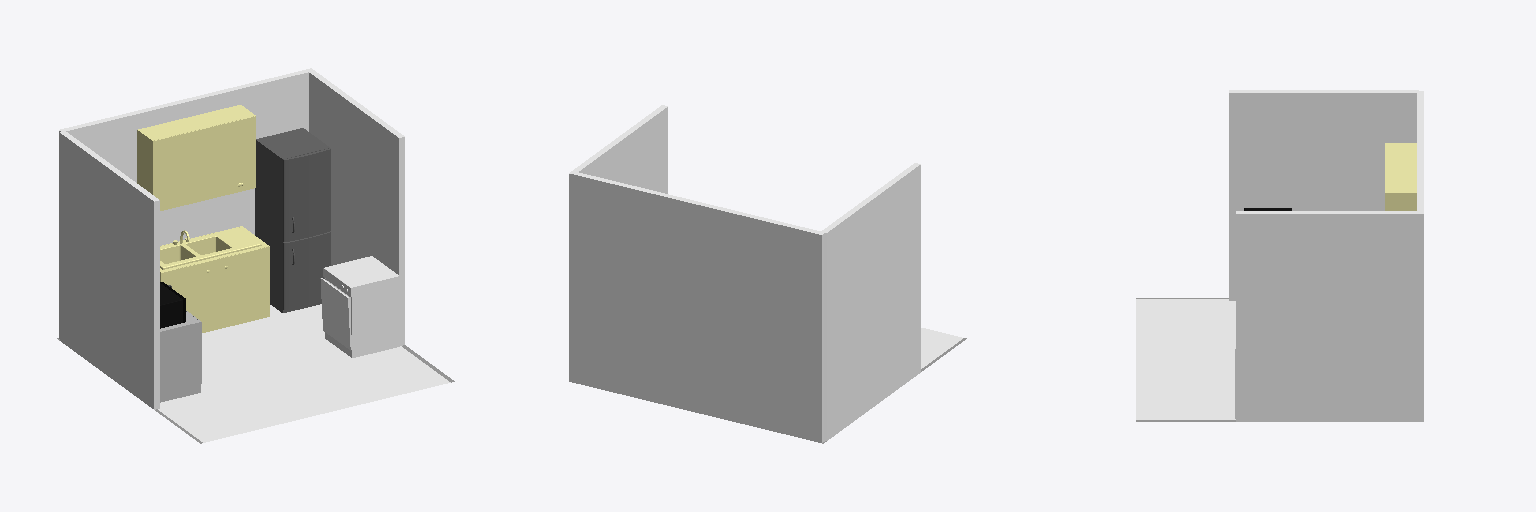
Rendered from Cocina.obj.
3 renders of one model, left to right at view 1: azimuth 30°, elevation 25°; view 2: azimuth 150°, elevation 25°; view 3: azimuth 270°, elevation 25°, orthographic.
Parts seen in each view (by area): view 1: wall_1_5, room_5_26, wall_2_10, wall_3_16, sweethome3d_opening_on_hinge_1_door_72, Corps_114, Corps_75, sweethome3d_opening_on_hinge_1_door_3_79, sweethome3d_opening_on_hinge_2_door_43, Corps_86, sweethome3d_opening_on_hinge_2_door_3_83, Corps_70 (+8 smaller); view 2: wall_3_17, wall_1_5, wall_2_10, room_5_26; view 3: wall_2_11, wall_1_4, room_5_26, Corps_70.
Part boxes in pixels (bbox=[...]): wall_1_5: bbox=[60, 133, 156, 409]; room_5_26: bbox=[158, 304, 450, 442]; wall_2_10: bbox=[309, 73, 401, 345]; wall_3_16: bbox=[66, 72, 308, 245]; sweethome3d_opening_on_hinge_1_door_72: bbox=[153, 116, 255, 210]; Corps_114: bbox=[325, 256, 399, 357]; Corps_75: bbox=[255, 128, 329, 312]; sweethome3d_opening_on_hinge_1_door_3_79: bbox=[283, 149, 330, 241]; sweethome3d_opening_on_hinge_2_door_43: bbox=[216, 246, 269, 321]; Corps_86: bbox=[160, 312, 200, 402]; sweethome3d_opening_on_hinge_2_door_3_83: bbox=[283, 232, 330, 309]; Corps_70: bbox=[137, 105, 255, 194]; wall_3_17: bbox=[569, 174, 822, 442]; wall_1_5: bbox=[824, 165, 920, 440]; wall_2_10: bbox=[579, 107, 667, 193]; room_5_26: bbox=[921, 328, 962, 368]; wall_2_11: bbox=[1236, 214, 1423, 421]; wall_1_4: bbox=[1229, 93, 1416, 300]; room_5_26: bbox=[1136, 299, 1235, 419]; Corps_70: bbox=[1386, 143, 1416, 210].
Bounding box in the file's own units: 320 × 250 × 312.